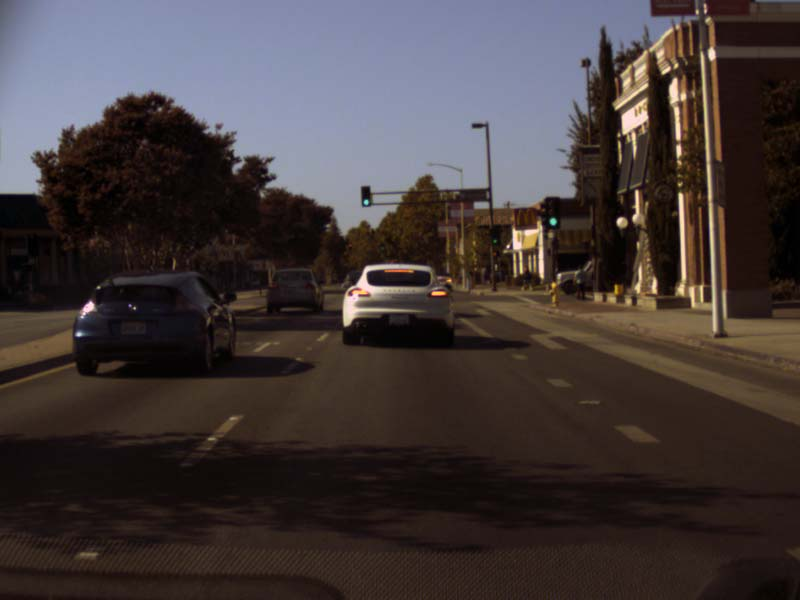Green: (548, 198, 558, 227), (361, 186, 369, 206), (492, 227, 497, 244), (380, 242, 384, 250)
Red: (348, 243, 352, 252)
